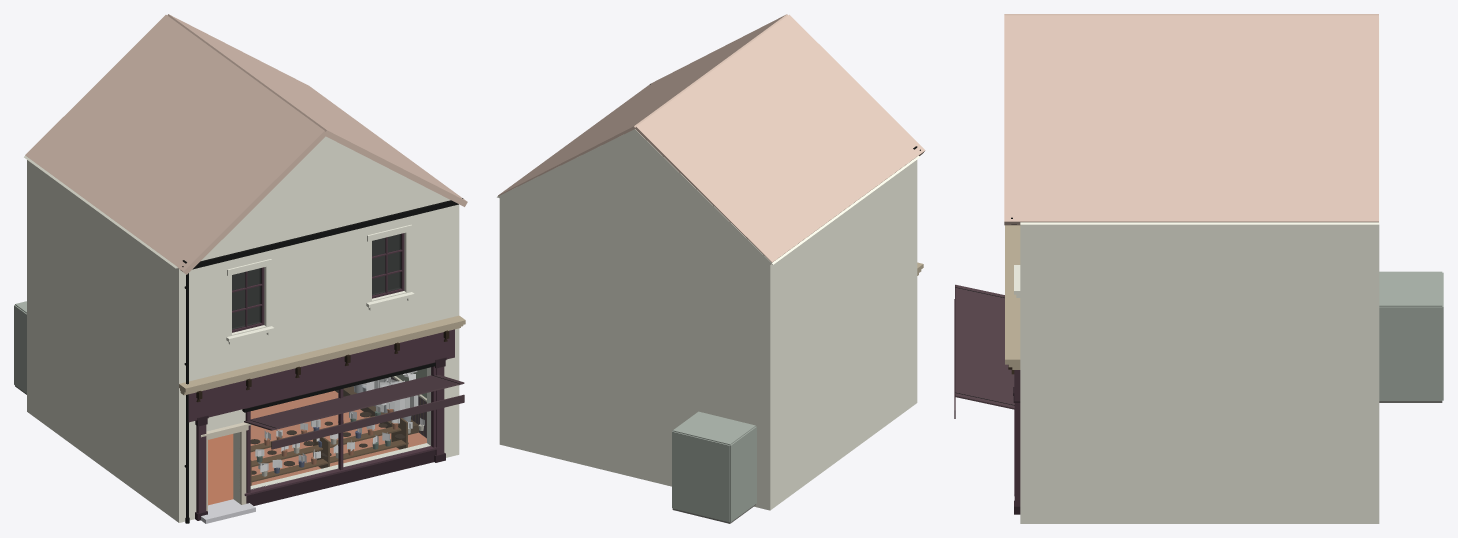
File: social-cafe-florist.glb
3 views of the same model, side by side, from view 1: azimuth 30°, elevation 25°; view 2: azimuth 150°, elevation 25°; view 3: azimuth 270°, elevation 25° (orthographic). The views are drawn at different scales.
Visible parts, largest first — view 1: mesh_cebc8f3b53ee_313, mesh_cebc8f3b53ee_370, mesh_cebc8f3b53ee_301, mesh_cebc8f3b53ee_308, mesh_cebc8f3b53ee_317, mesh_cebc8f3b53ee_311, mesh_cebc8f3b53ee_310, mesh_cebc8f3b53ee_300, mesh_cebc8f3b53ee_329, mesh_cebc8f3b53ee_369, mesh_cebc8f3b53ee_315, mesh_cebc8f3b53ee_316 (+8 smaller); view 2: mesh_cebc8f3b53ee_313, mesh_cebc8f3b53ee_370, mesh_cebc8f3b53ee_324; view 3: mesh_cebc8f3b53ee_313, mesh_cebc8f3b53ee_370, mesh_cebc8f3b53ee_324, mesh_cebc8f3b53ee_311, mesh_cebc8f3b53ee_310, mesh_cebc8f3b53ee_301.
Part boxes in pixels (x1=…): mesh_cebc8f3b53ee_313: x1=24, y1=136, x2=459, y2=522; mesh_cebc8f3b53ee_370: x1=25, y1=14, x2=467, y2=274; mesh_cebc8f3b53ee_301: x1=188, y1=329, x2=454, y2=513; mesh_cebc8f3b53ee_308: x1=251, y1=368, x2=430, y2=489; mesh_cebc8f3b53ee_317: x1=208, y1=390, x2=426, y2=505; mesh_cebc8f3b53ee_311: x1=244, y1=375, x2=464, y2=449; mesh_cebc8f3b53ee_310: x1=179, y1=315, x2=465, y2=395; mesh_cebc8f3b53ee_300: x1=195, y1=357, x2=446, y2=520; mesh_cebc8f3b53ee_329: x1=250, y1=411, x2=408, y2=485; mesh_cebc8f3b53ee_369: x1=181, y1=198, x2=463, y2=271; mesh_cebc8f3b53ee_315: x1=232, y1=268, x2=261, y2=329; mesh_cebc8f3b53ee_316: x1=372, y1=234, x2=401, y2=295; mesh_cebc8f3b53ee_313: x1=497, y1=129, x2=919, y2=510; mesh_cebc8f3b53ee_370: x1=498, y1=14, x2=925, y2=264; mesh_cebc8f3b53ee_324: x1=672, y1=411, x2=756, y2=522; mesh_cebc8f3b53ee_313: x1=1014, y1=18, x2=1379, y2=523; mesh_cebc8f3b53ee_370: x1=1004, y1=14, x2=1378, y2=225; mesh_cebc8f3b53ee_324: x1=1379, y1=271, x2=1443, y2=400; mesh_cebc8f3b53ee_311: x1=954, y1=284, x2=1014, y2=418; mesh_cebc8f3b53ee_310: x1=1005, y1=225, x2=1020, y2=369; mesh_cebc8f3b53ee_301: x1=1014, y1=370, x2=1020, y2=505.
Bounding box in the file's own units: 8.7 × 10.53 × 10.89.
